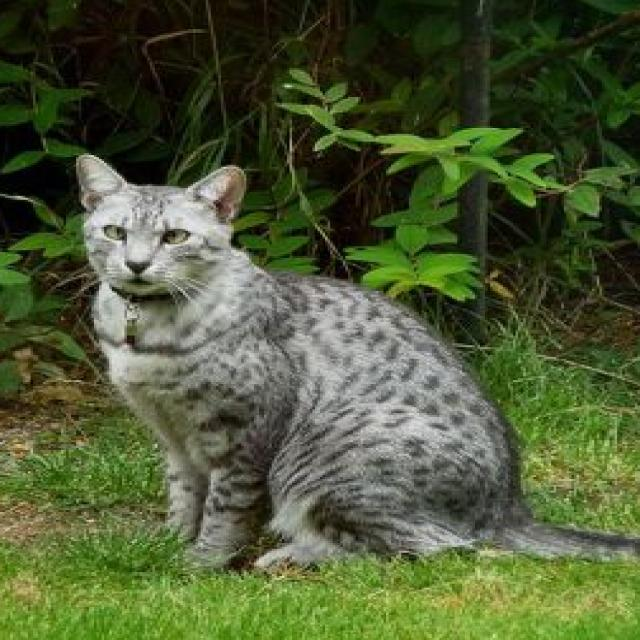Egyptian Mau: (68, 151, 640, 577)
